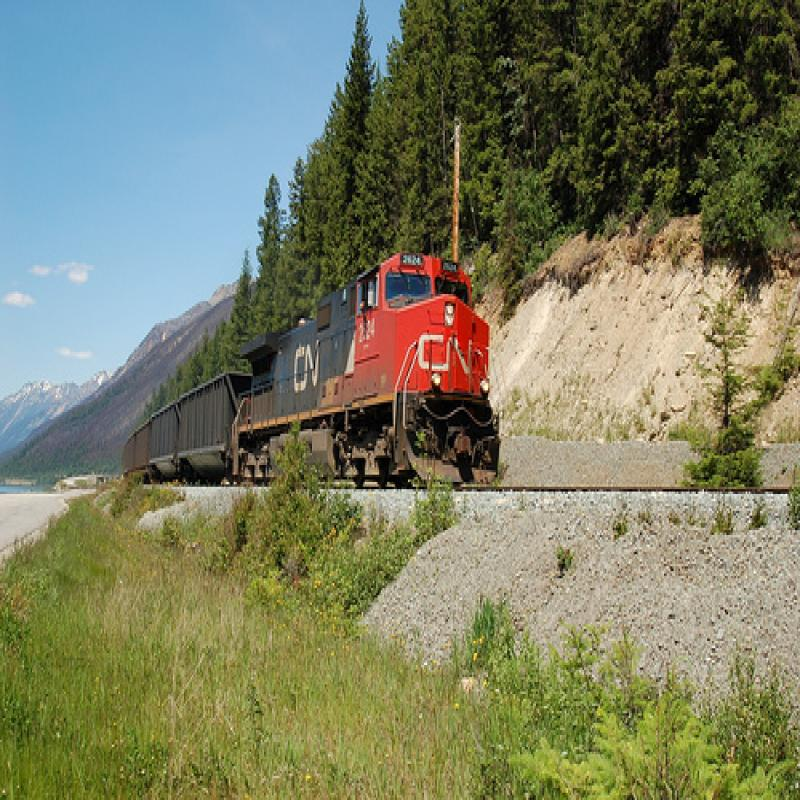train: (124, 247, 500, 490)
